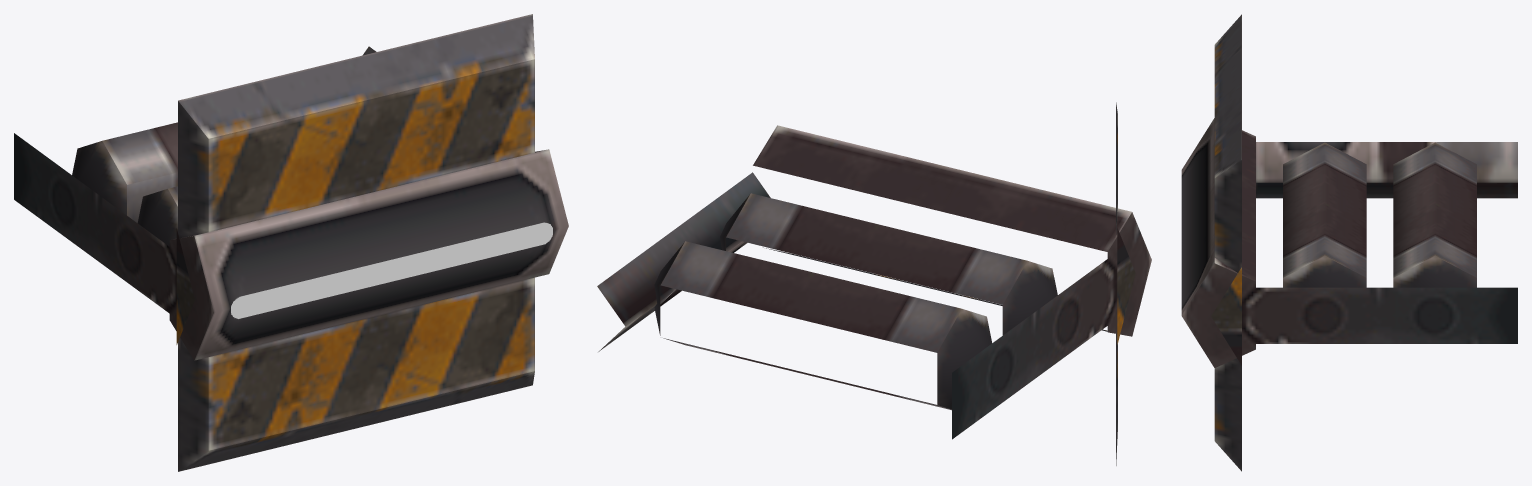
Rendered from toggle-fence.glb.
3 renders of one model, left to right at view 1: azimuth 30°, elevation 25°; view 2: azimuth 150°, elevation 25°; view 3: azimuth 270°, elevation 25°, orthographic. The views are drawn at different scales.
Visible parts, largest first — view 1: togglewalls.toggle-fence-MeshNodes["toggle-fence_base"], togglewalls.toggle-fence-MeshNodes["toggle-fence_breaker"], togglewalls.toggle-fence-MeshNodes["toggle-fence_offglow"]; view 2: togglewalls.toggle-fence-MeshNodes["toggle-fence_breaker"], togglewalls.toggle-fence-MeshNodes["toggle-fence_base"]; view 3: togglewalls.toggle-fence-MeshNodes["toggle-fence_breaker"], togglewalls.toggle-fence-MeshNodes["toggle-fence_base"].
Part boxes in pixels (x1,y1,x2,y2): togglewalls.toggle-fence-MeshNodes["toggle-fence_base"]: (176, 14, 534, 471); togglewalls.toggle-fence-MeshNodes["toggle-fence_breaker"]: (14, 46, 568, 360); togglewalls.toggle-fence-MeshNodes["toggle-fence_offglow"]: (231, 222, 552, 318); togglewalls.toggle-fence-MeshNodes["toggle-fence_breaker"]: (597, 125, 1151, 439); togglewalls.toggle-fence-MeshNodes["toggle-fence_base"]: (763, 102, 1135, 465); togglewalls.toggle-fence-MeshNodes["toggle-fence_breaker"]: (1181, 118, 1517, 367); togglewalls.toggle-fence-MeshNodes["toggle-fence_base"]: (1211, 14, 1241, 471).
Size of the model in its own units: 1.01 by 1 by 0.98.
2 materials, 2 textured.
